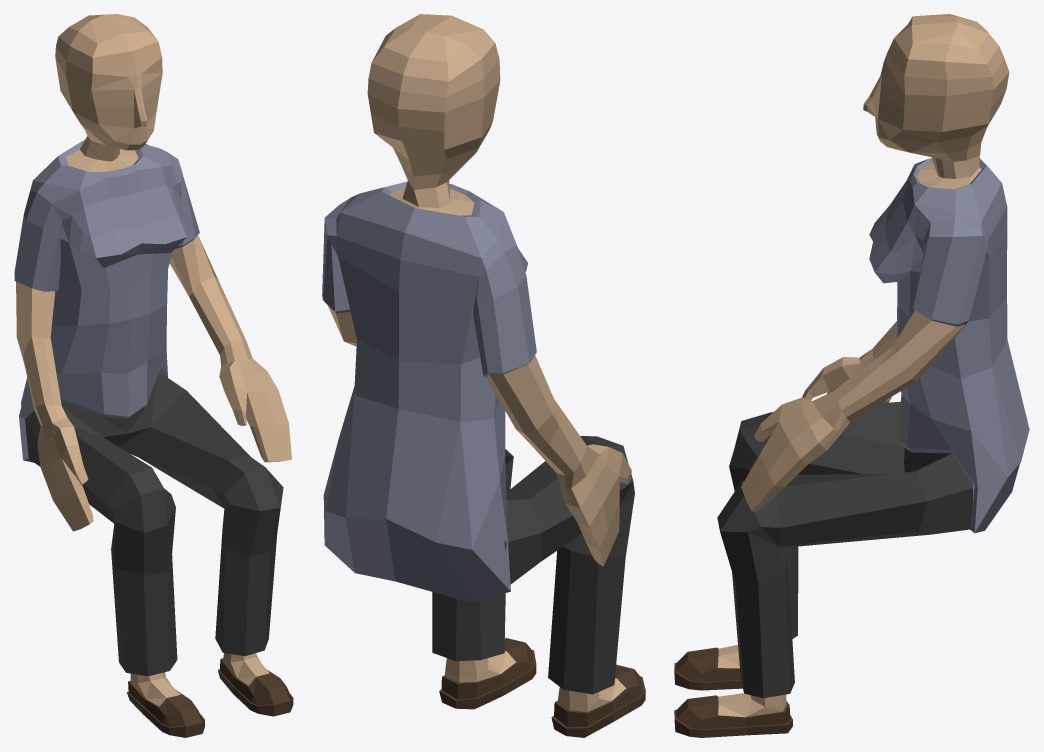
File: crowd_eclair_female_sitting.c99f5527.glb
The picture shows the model from 3 angles, left to right: view 1: azimuth 30°, elevation 25°; view 2: azimuth 150°, elevation 25°; view 3: azimuth 270°, elevation 25°; orthographic projection. The views are drawn at different scales.
Visible parts, largest first — view 1: Pants, Shirt, Skin, Shoes; view 2: Shirt, Skin, Pants, Shoes; view 3: Shirt, Skin, Pants, Shoes.
Part boxes in pixels (box(x1,y1,x2,y2)): Pants: box(25, 372, 283, 676); Shirt: box(14, 139, 199, 462); Skin: box(16, 14, 291, 706); Shoes: box(126, 658, 293, 737); Shirt: box(322, 181, 536, 602); Skin: box(328, 14, 631, 712); Pants: box(432, 436, 634, 694); Shoes: box(439, 638, 645, 737); Shirt: box(869, 158, 1029, 533); Skin: box(718, 14, 1009, 717); Pants: box(717, 401, 973, 698); Shoes: box(674, 647, 792, 737).
Bounding box in the file's own units: 1.02 × 2.97 × 1.41.
